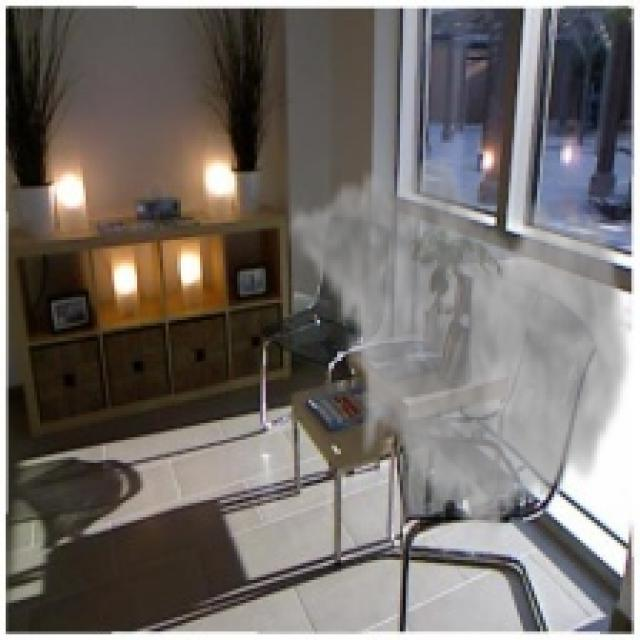smoke: (283, 143, 634, 548)
